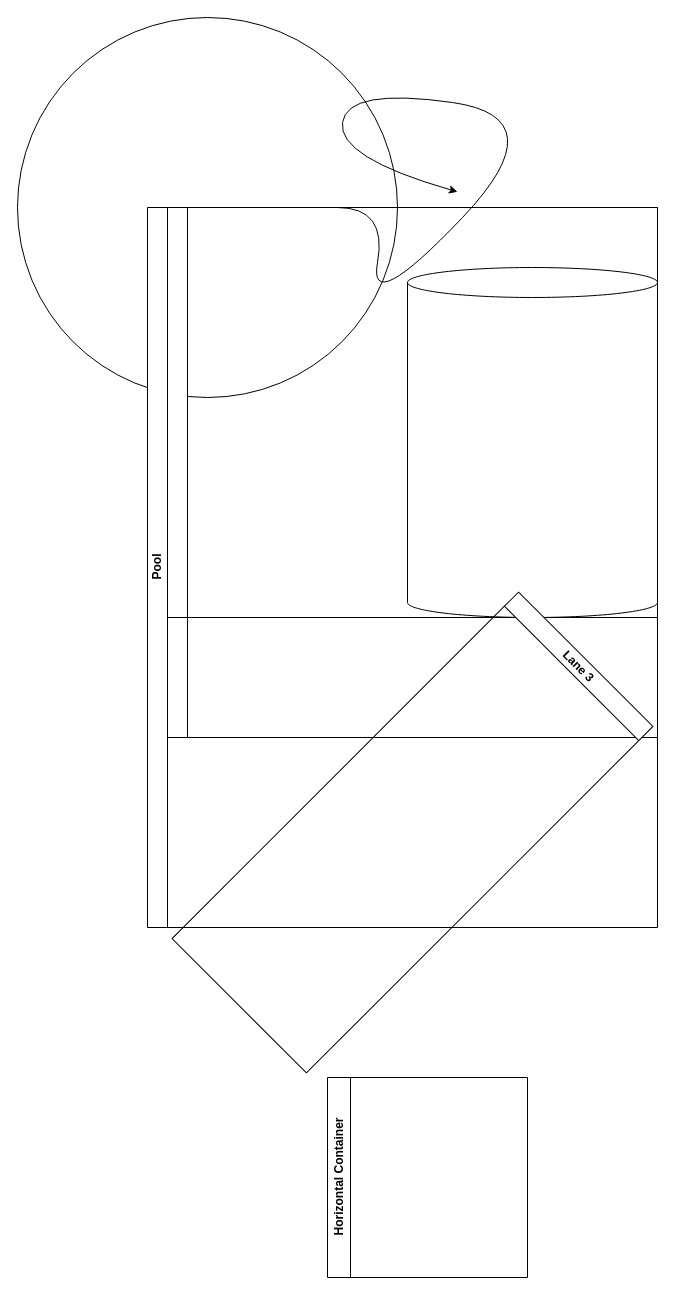
The diagram is 675 pixels wide and 1295 high, and some of its shapes have lost their labels. The shapes that lost their labels are listed below. From the top down, each one's box as (x1, y1, x2, y2) in pixels, then its label:
(166, 206, 658, 618): Lane 1
(166, 616, 658, 738): Lane 2
